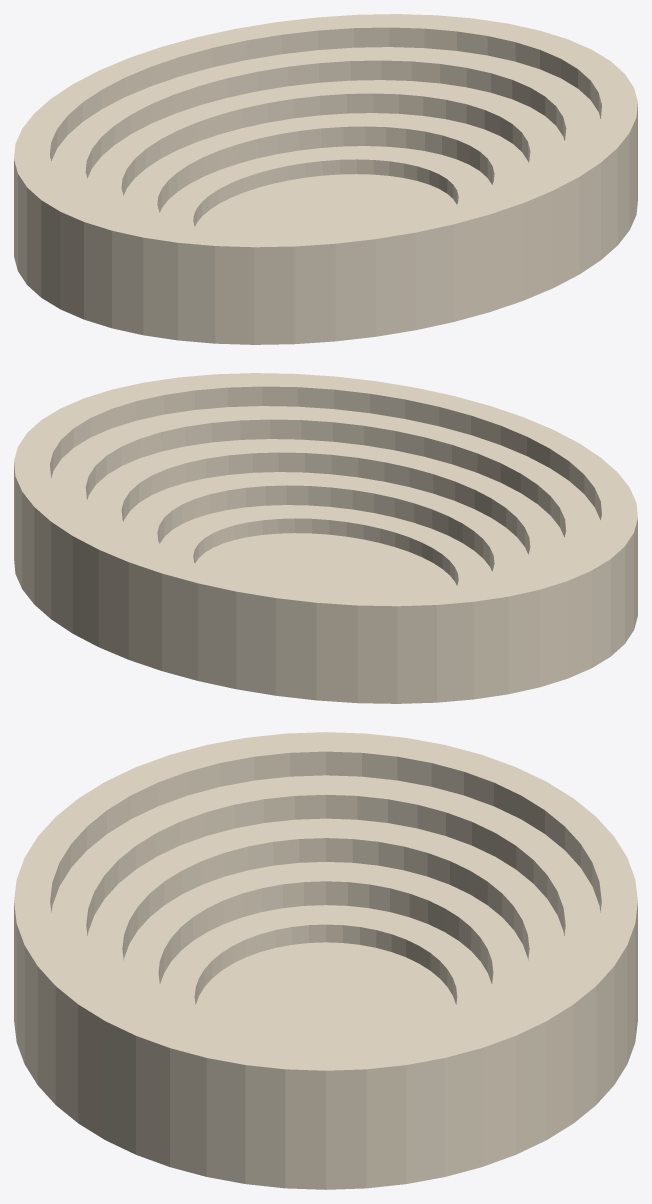
Rendered from amfiteatre.glb.
3 views of the same model, one above another, from view 1: azimuth 30°, elevation 25°; view 2: azimuth 150°, elevation 25°; view 3: azimuth 270°, elevation 25° (orthographic). The views are drawn at different scales.
Visible parts, largest first — view 1: amfiteatre; view 2: amfiteatre; view 3: amfiteatre.
Boxes of the visible parts, x1,y1,x2,y2 form: amfiteatre: [14, 14, 637, 344]; amfiteatre: [14, 373, 637, 703]; amfiteatre: [14, 732, 637, 1189].
Size of the model in its own units: 1.22 by 0.2 by 0.95.
